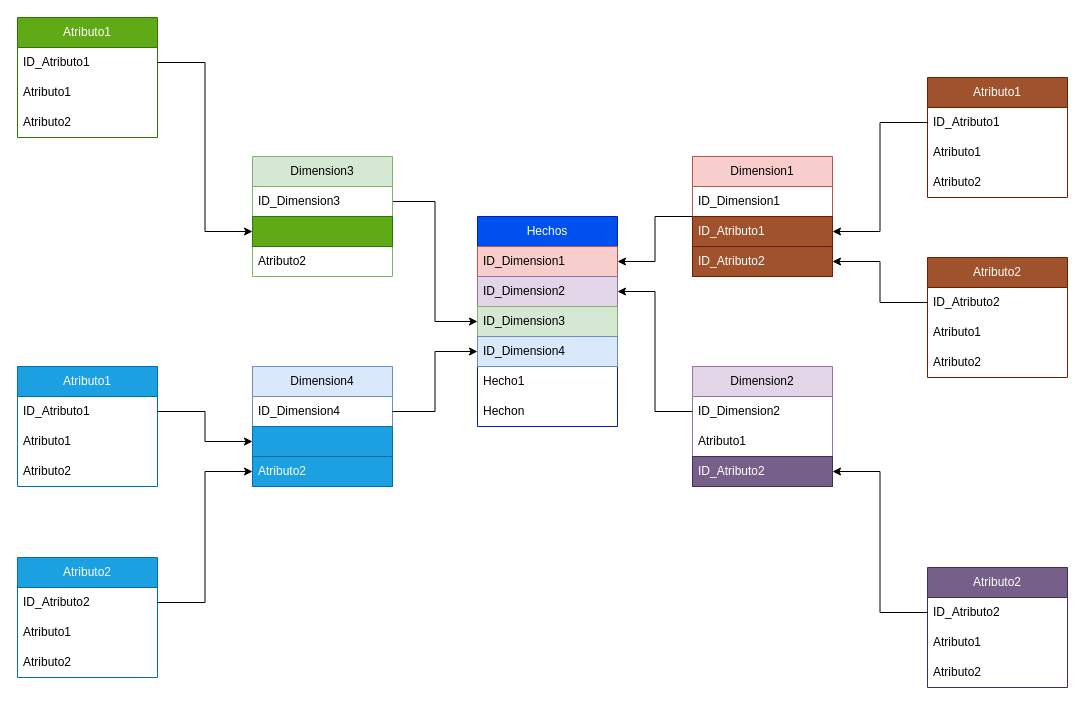
The diagram is 1085 pixels wide and 705 high, and some of its shapes have lost their labels. The centre of each missing label's shape, as x and y in pixels:
ID_Atriburo1: the point at 322,231
ID_Atrinuto1: the point at 322,441
